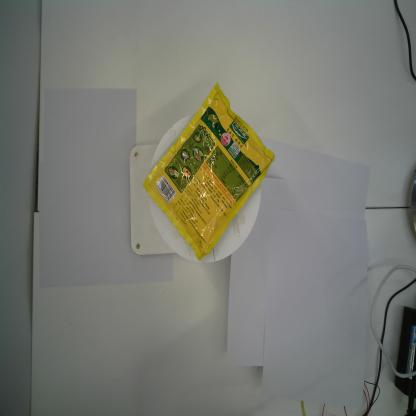Seasoner: (139, 80, 276, 264)
